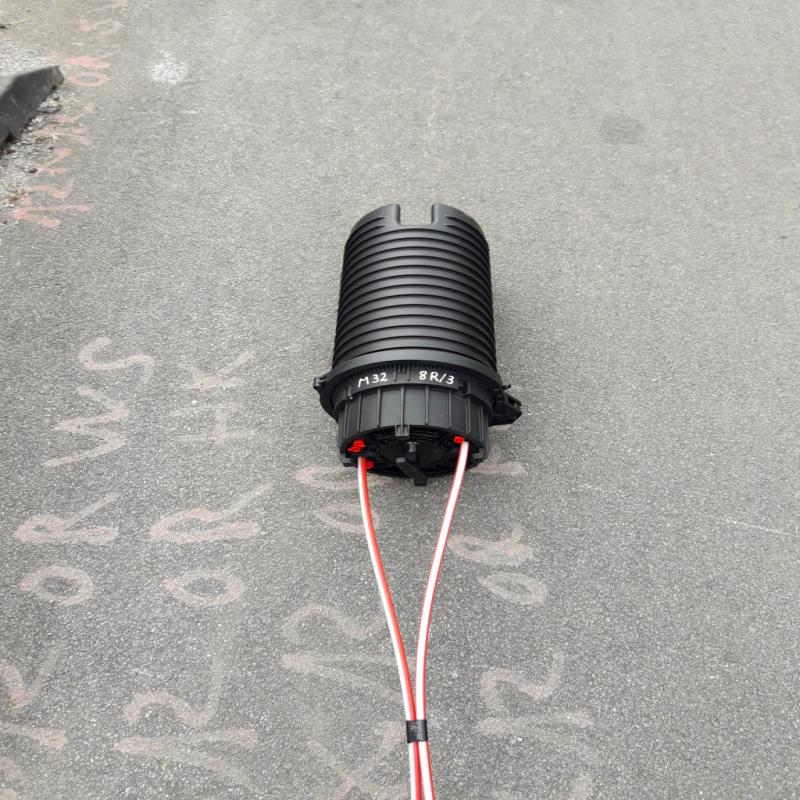NT-Muffen: (325, 206, 531, 477)
